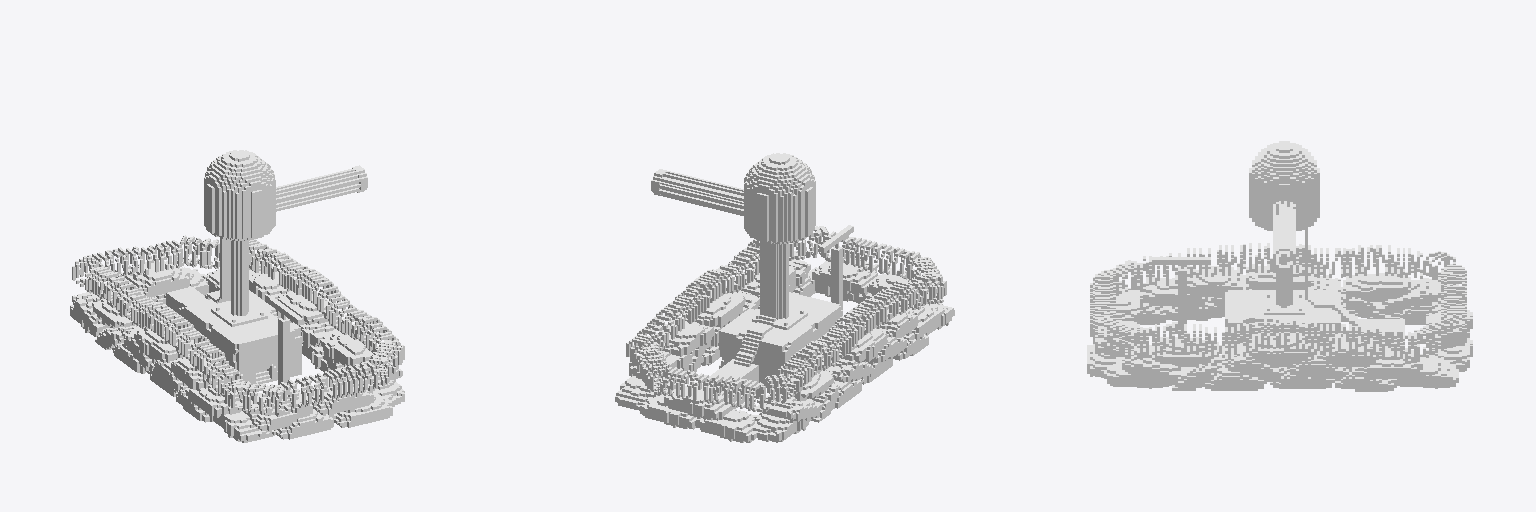
Rendered from mitrailleuse_v3_turret.vox.obj.
3 views of the same model, side by side, from view 1: azimuth 30°, elevation 25°; view 2: azimuth 150°, elevation 25°; view 3: azimuth 270°, elevation 25° (orthographic).
Parts seen in each view (by area): view 1: object 1; view 2: object 1; view 3: object 1.
Boxes of the visible parts, x1,y1,x2,y2 form: object 1: [70, 150, 404, 442]; object 1: [615, 153, 954, 442]; object 1: [1087, 141, 1472, 391].
Size of the model in its own units: 8.5 by 7.7 by 13.1.